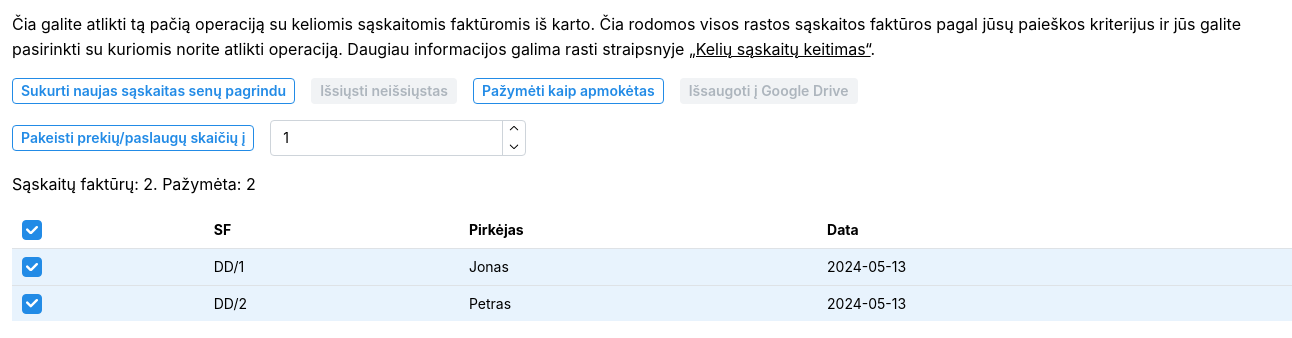
Test: allows to deselect and select alls rows by clicking header checkbox
Click the checkbox with test id "invoice-check-all": [32, 230] box 22,220 -> 42,240
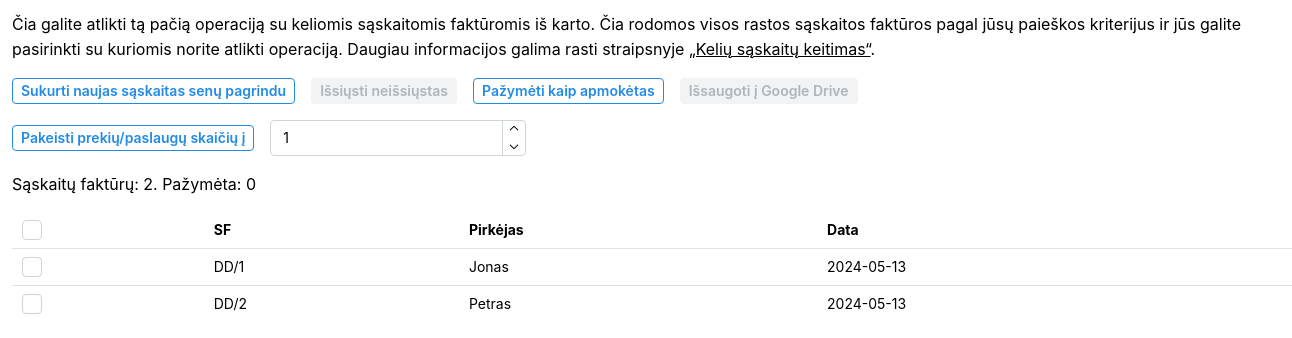
Now the checkbox with test id "invoice-check-1" is not checked, box 22,257 -> 42,277
Now the checkbox with test id "invoice-check-2" is not checked, box 22,294 -> 42,314
Now the text with test id "invoiceCount" reads "Sąskaitų faktūrų: 2. Pažymėta: 0", box 12,174 -> 256,194
Click the checkbox with test id "invoice-check-all": [32, 230] box 22,220 -> 42,240
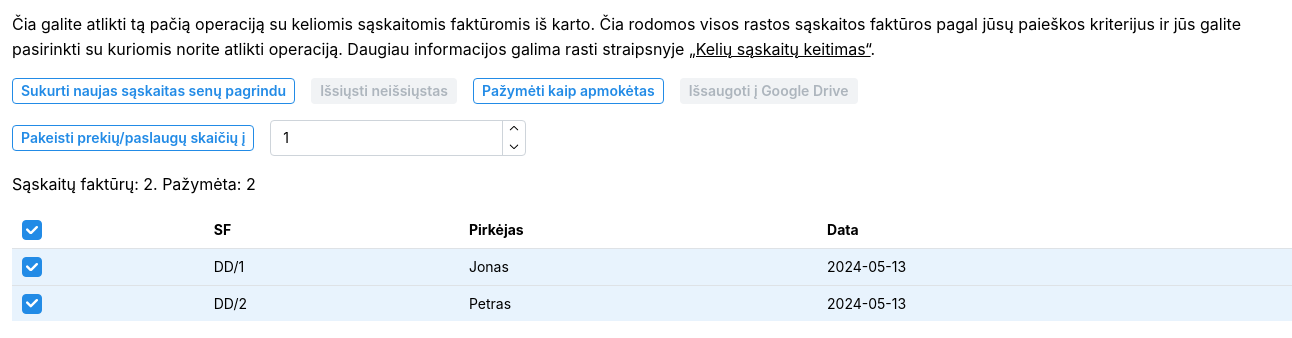
Now the checkbox with test id "invoice-check-1" is checked, box 22,257 -> 42,277
Now the checkbox with test id "invoice-check-2" is checked, box 22,294 -> 42,314
Now the text with test id "invoiceCount" reads "Sąskaitų faktūrų: 2. Pažymėta: 2", box 12,174 -> 256,194
